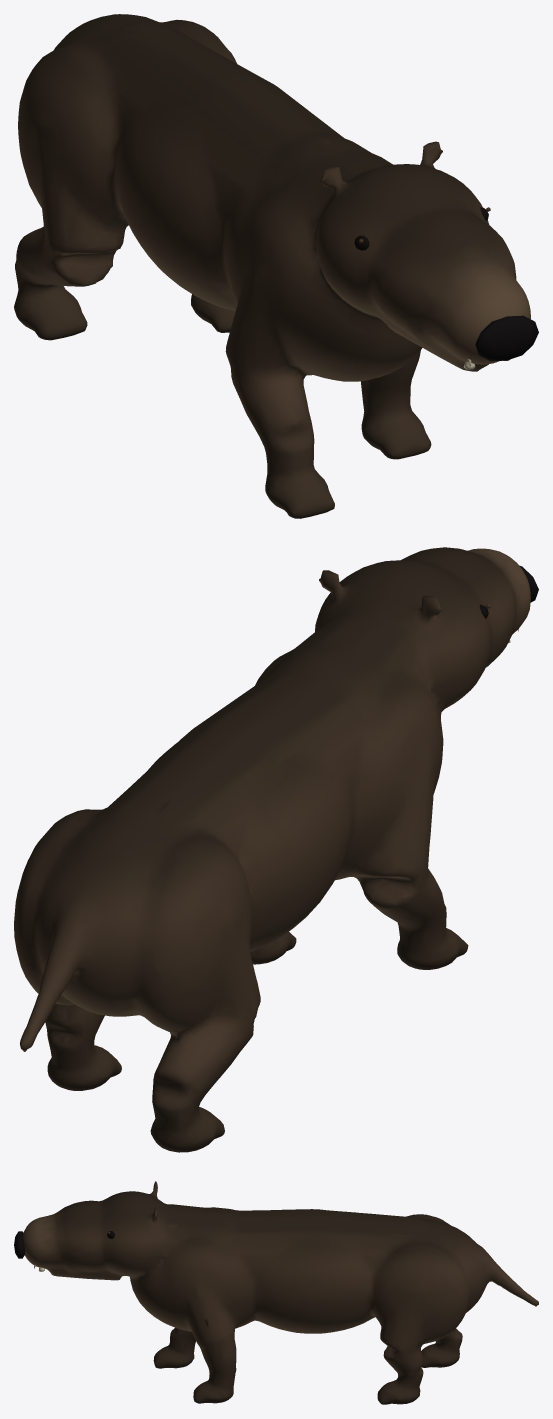
File: SarkastodonMongoliensis.fbx
3 renders of one model, top to bottom at view 1: azimuth 30°, elevation 25°; view 2: azimuth 150°, elevation 25°; view 3: azimuth 270°, elevation 25°, orthographic. The views are drawn at different scales.
Visible parts, largest first — view 1: SarkastodonMongoliensis; view 2: SarkastodonMongoliensis; view 3: SarkastodonMongoliensis.
Part boxes in pixels (x1,y1,x2,y2): SarkastodonMongoliensis: [14, 14, 538, 518]; SarkastodonMongoliensis: [14, 547, 538, 1152]; SarkastodonMongoliensis: [14, 1181, 538, 1404].
Size of the model in its own units: 0.5206 by 0.8364 by 2.12.
